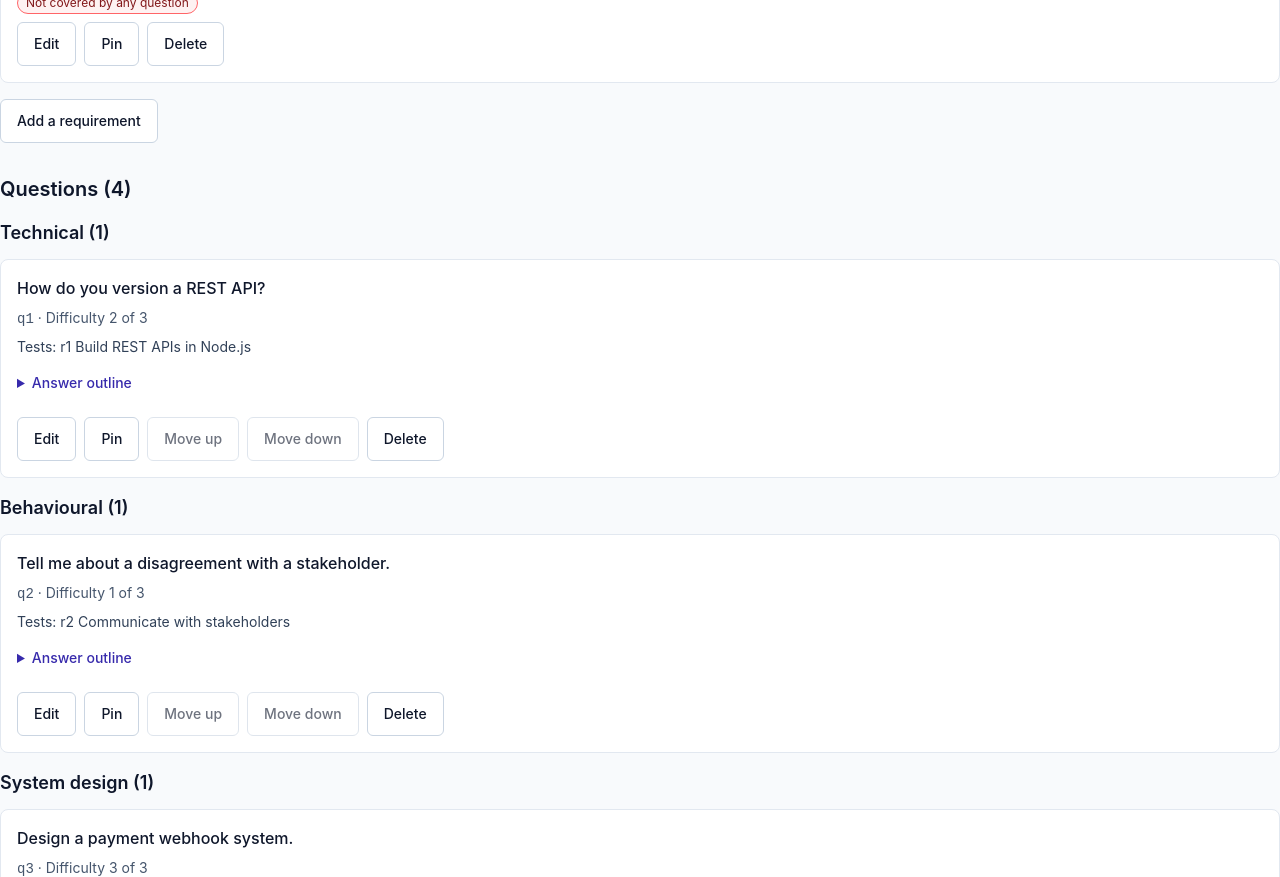
Scenario: questions › refuses an empty question text with a message on the field
The image size is (1280, 877).
(page scrolled)
Click the button with aria-label "Edit question q1": (47, 439) top-left (17, 417), bottom-right (76, 461)
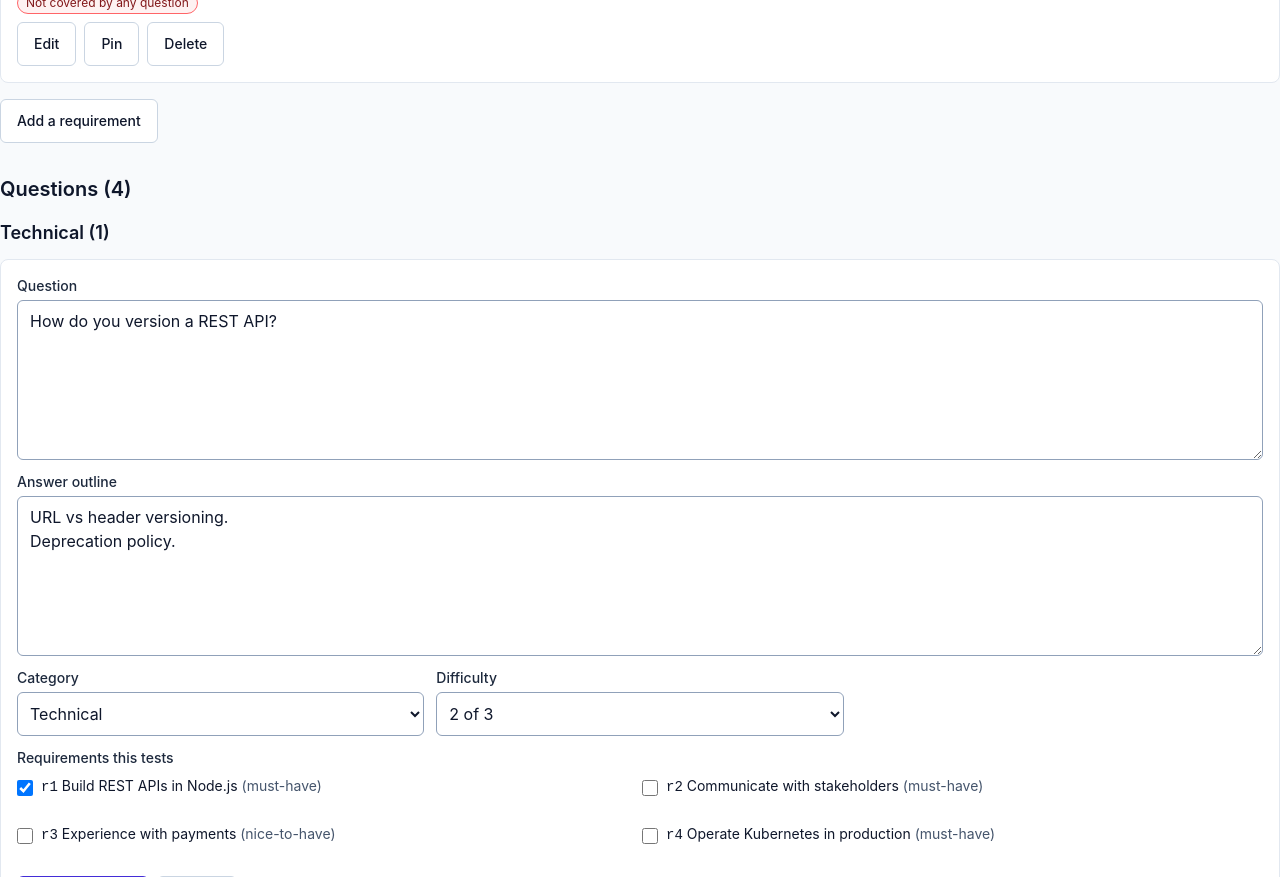
Clear the text box labelled "Question": (640, 380) top-left (17, 300), bottom-right (1263, 460)
(page scrolled)
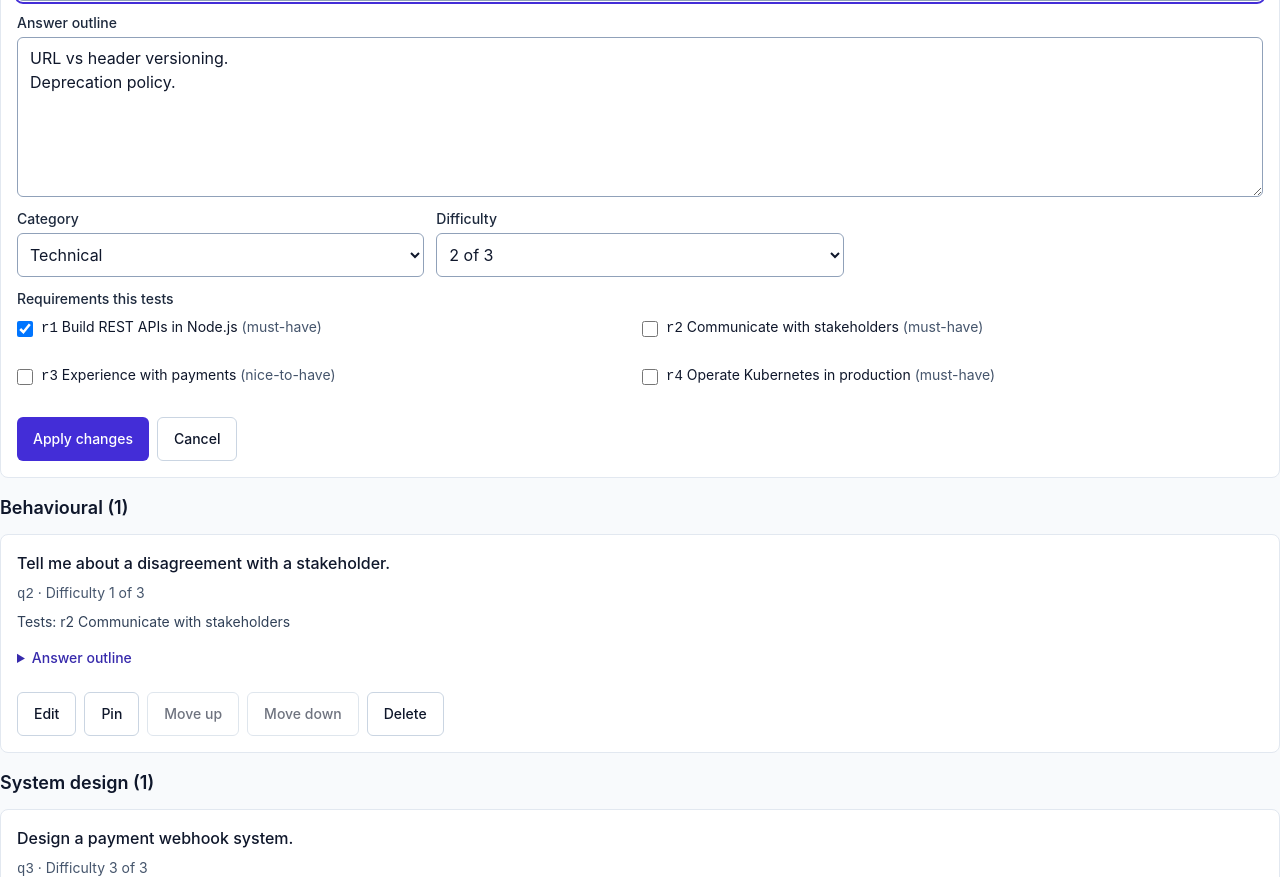
Click the button "Apply changes": (83, 439) top-left (17, 417), bottom-right (149, 461)
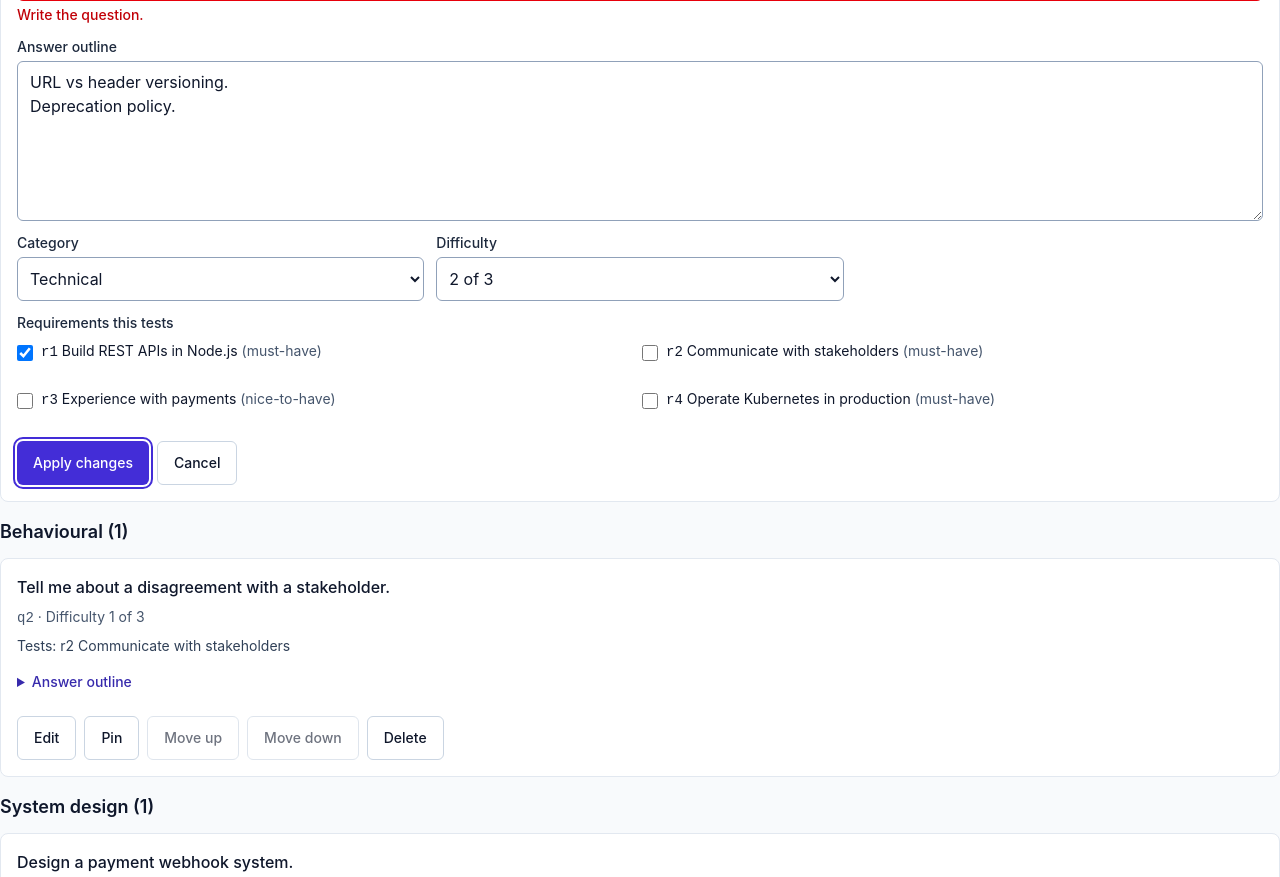
Now the text "Write the question." is shown, box top-left (17, 6), bottom-right (144, 23)
